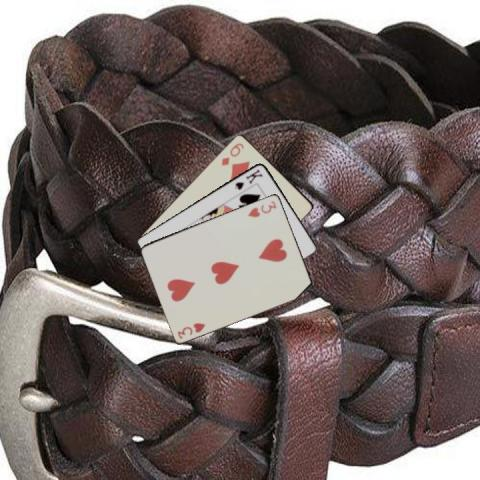3h: (245, 197, 278, 219), (174, 319, 206, 340)
6d: (218, 139, 245, 167)
Ks: (232, 166, 264, 191)
